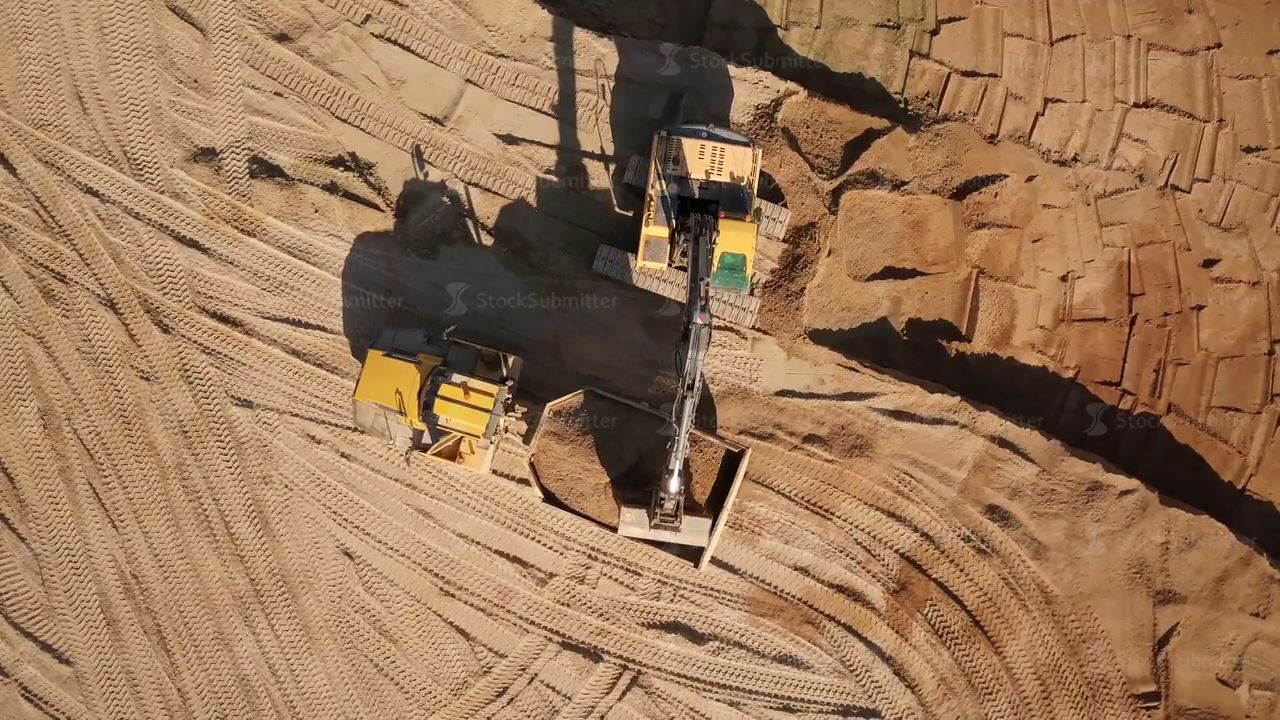con_eq: (342, 322, 756, 578), (595, 121, 794, 337)
